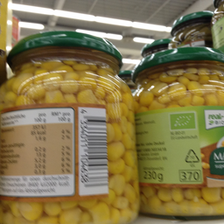corn: (1, 31, 135, 224), (132, 49, 224, 218)
